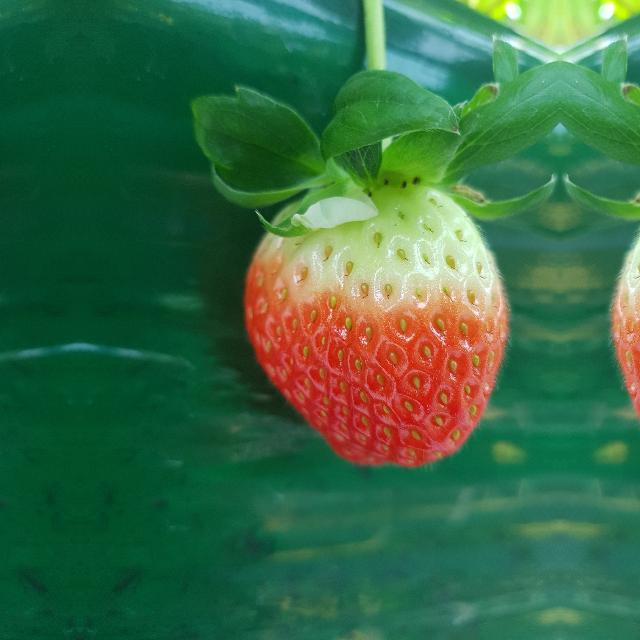Health_75: (244, 184, 511, 468)
